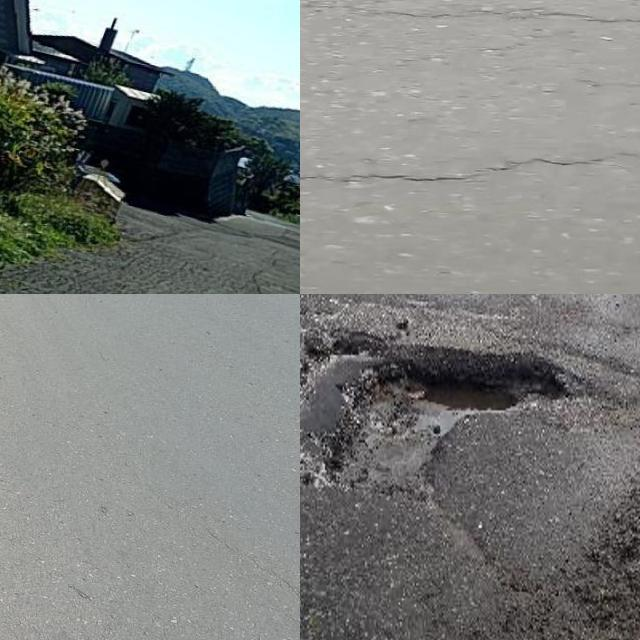Lubang: (300, 327, 576, 543)
Melintang: (300, 142, 640, 194), (300, 0, 640, 32)
